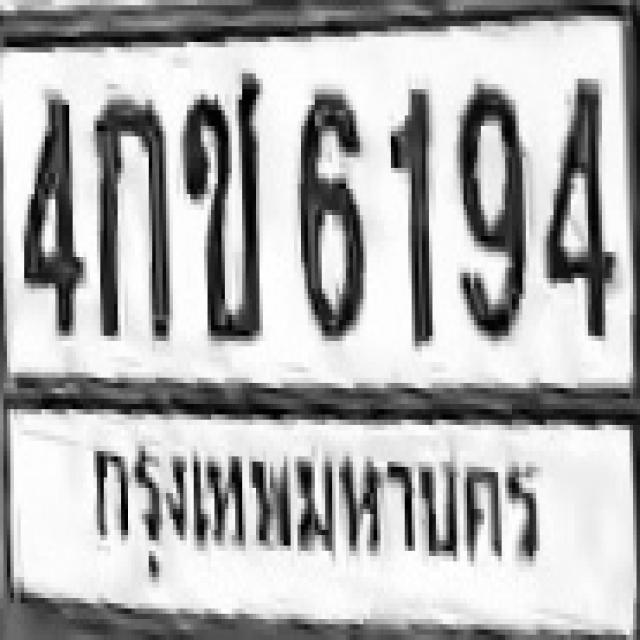1: (388, 86, 432, 344)
10GorGai: (91, 94, 168, 336)
19ChorChang: (180, 68, 259, 336)
4: (543, 73, 616, 336), (21, 87, 83, 333)
6: (296, 84, 365, 336)
9: (456, 78, 526, 336)
Bangkok: (80, 424, 544, 586)
